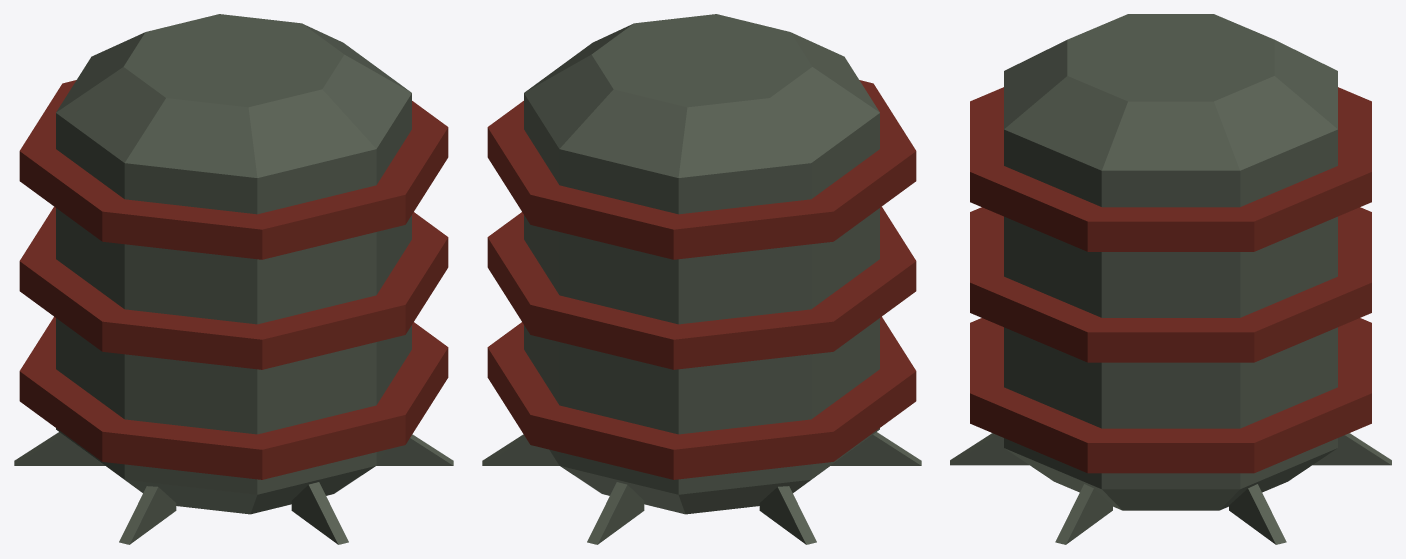
File: s150_vessel.obj
The picture shows the model from 3 angles, left to right: view 1: azimuth 30°, elevation 25°; view 2: azimuth 150°, elevation 25°; view 3: azimuth 270°, elevation 25°; orthographic projection.
Parts seen in each view (by area): view 1: s150_vessel; view 2: s150_vessel; view 3: s150_vessel.
Part boxes in pixels (x1,y1,x2,y2): s150_vessel: [14, 14, 453, 544]; s150_vessel: [482, 14, 921, 544]; s150_vessel: [950, 14, 1391, 544].
Size of the model in its own units: 1.14 by 1.27 by 1.25.
